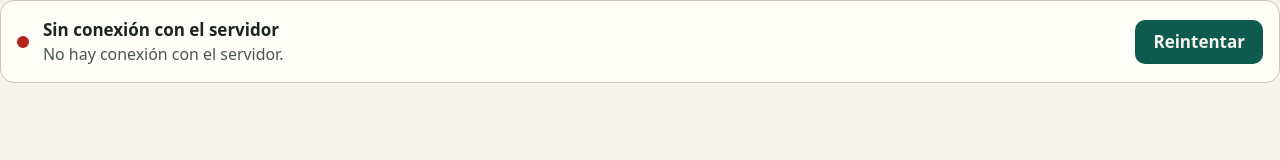
Test: BackendStatus › permite reintentar cuando no hay red
This screenshot has width=1280, height=160.
Expected: the text "No hay conexión con el servidor." is shown, [43,42,283,64]
Click the button "Reintentar".
click(1199, 42)  # box [1135,20,1263,64]
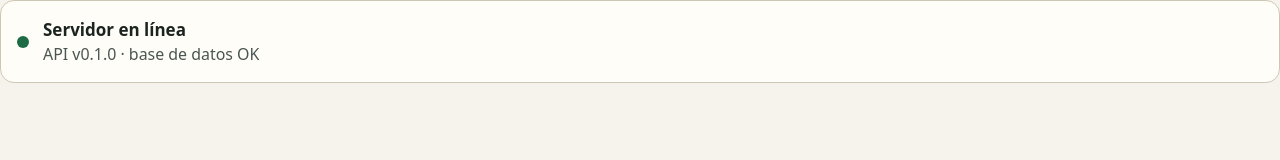
Now the text "Servidor en línea" is shown, box [43,18,186,41]
